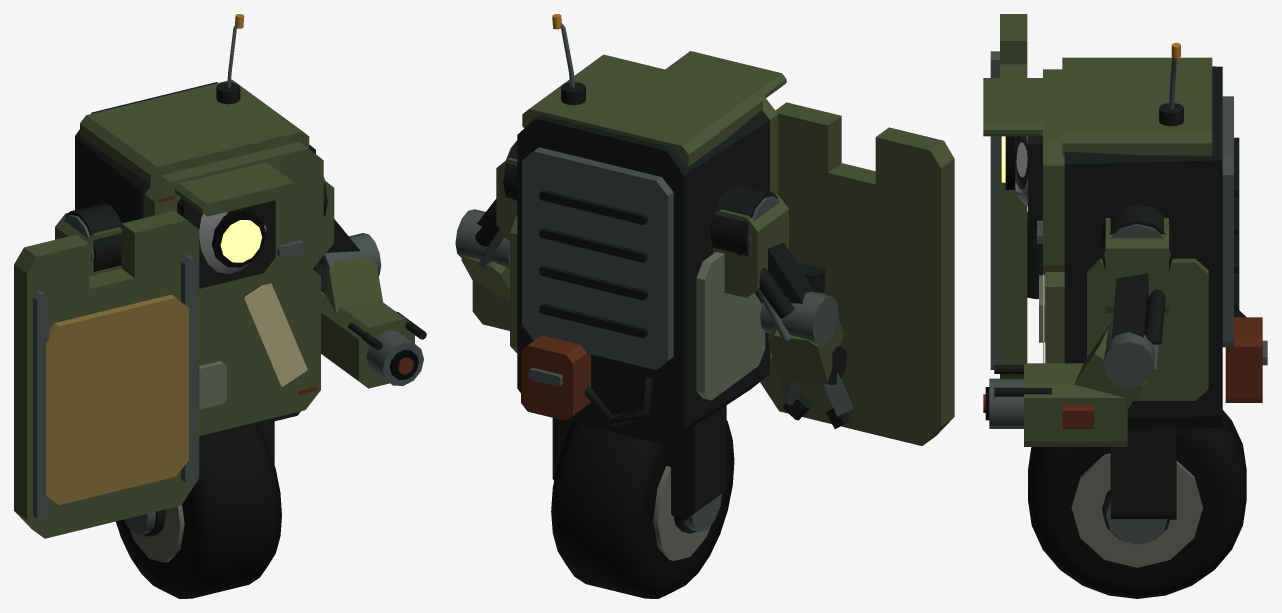
Rendered from SHIELD_KLONK.lo.glb.
The picture shows the model from 3 angles, left to right: view 1: azimuth 30°, elevation 25°; view 2: azimuth 150°, elevation 25°; view 3: azimuth 270°, elevation 25°; orthographic projection. The views are drawn at different scales.
Parts seen in each view (by area): view 1: body_geometry, shield_geometry, wheel_geometry, armR_geometry, armL_geometry; view 2: body_geometry, shield_geometry, wheel_geometry, armL_geometry, armR_geometry; view 3: body_geometry, wheel_geometry, armR_geometry, shield_geometry.
Boxes of the visible parts, box(x1,y1,x2,y2) form: body_geometry: box(65, 14, 327, 534); shield_geometry: box(14, 210, 199, 538); wheel_geometry: box(116, 425, 281, 598); armR_geometry: box(316, 177, 426, 388); armL_geometry: box(55, 212, 121, 276); body_geometry: box(503, 14, 786, 531); shield_geometry: box(760, 102, 954, 445); wheel_geometry: box(551, 420, 734, 598); armL_geometry: box(713, 194, 854, 428); armR_geometry: box(455, 140, 517, 330); body_geometry: box(983, 42, 1267, 544); wheel_geometry: box(1028, 410, 1246, 598); armR_geometry: box(983, 218, 1170, 446); shield_geometry: box(990, 14, 1045, 378).
Bounding box in the file's own units: 1.02 × 1.3 × 0.5861.
2 materials, 1 textured.
